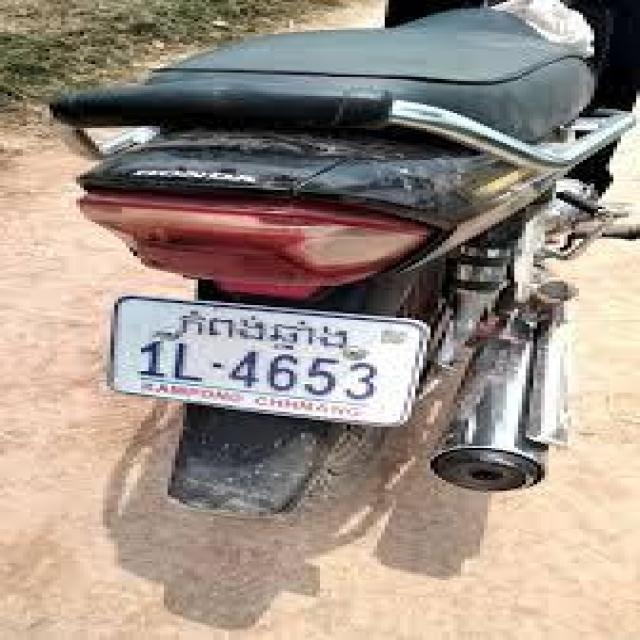Kampong_Chhnang: (179, 309, 352, 351)
